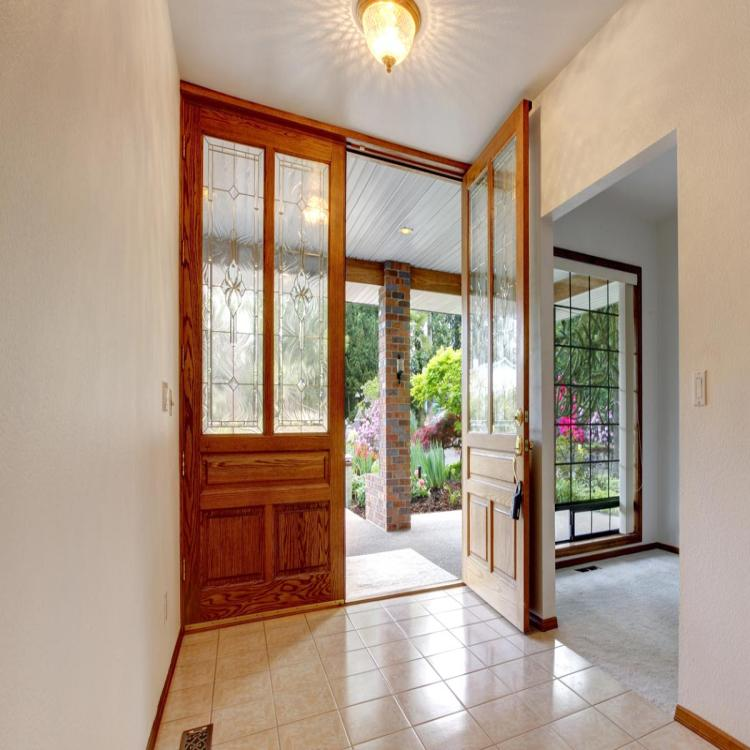OpenDoor: (542, 136, 691, 721), (343, 127, 469, 612)
